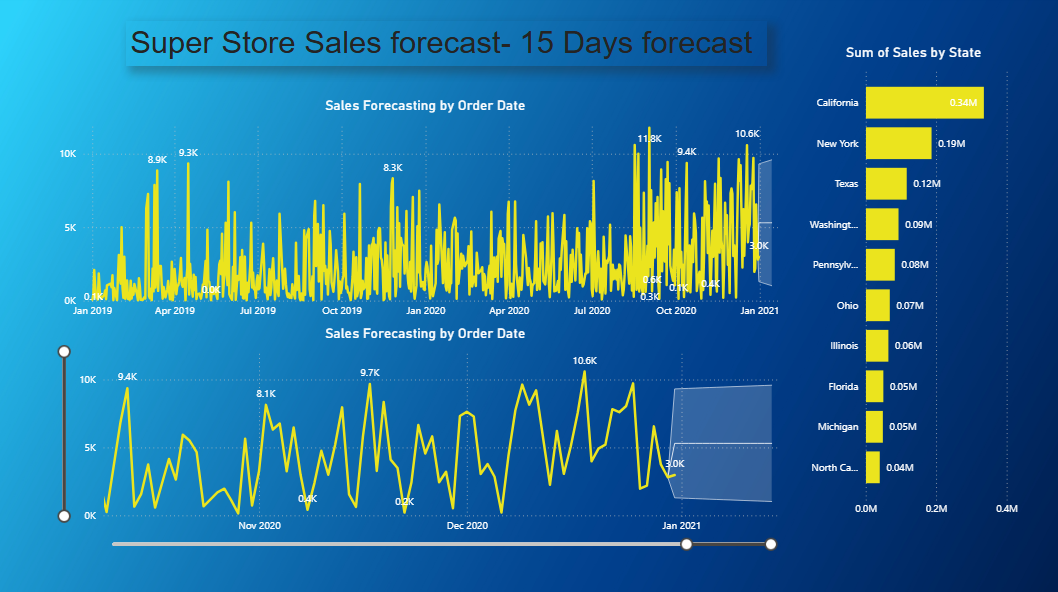

The dashboard page shown, as its layout file describes it:
{"tool":"powerbi","page":{"name":"Page 2","canvas":[1280,720],"ordinal":1},"visuals":[{"type":"lineChart","title":"Sales Forecasting by Order Date","fields":{"Y":["Sum(inventory1.Sales)"],"Category":["inventory1.Order Date"]},"box":[70.2,396.4,891.9,275.3],"z":0},{"type":"lineChart","title":"Sales Forecasting by Order Date","fields":{"Y":["Sum(inventory1.Sales)"],"Category":["inventory1.Order Date"]},"box":[70.2,121.1,891.9,275.3],"z":1},{"type":"clusteredBarChart","fields":{"Category":["inventory1.State"],"Y":["Sum(inventory1.Sales)"]},"box":[962.1,57.8,283.5,578.1],"z":2},{"type":"textbox","box":[155.5,30.3,772.1,53.7],"z":3}]}

Visuals, with their boxes in screenshot pixels (x1, y1, x2, y2), scaled from the page's 1280x720 canvas onto the 1058x592 screenshot:
"Sales Forecasting by Order Date" lineChart: BBox(58, 326, 795, 552)
"Sales Forecasting by Order Date" lineChart: BBox(58, 100, 795, 326)
clusteredBarChart - inventory1.State x Sum(inventory1.Sales): BBox(795, 48, 1030, 523)
textbox: BBox(129, 25, 767, 69)
